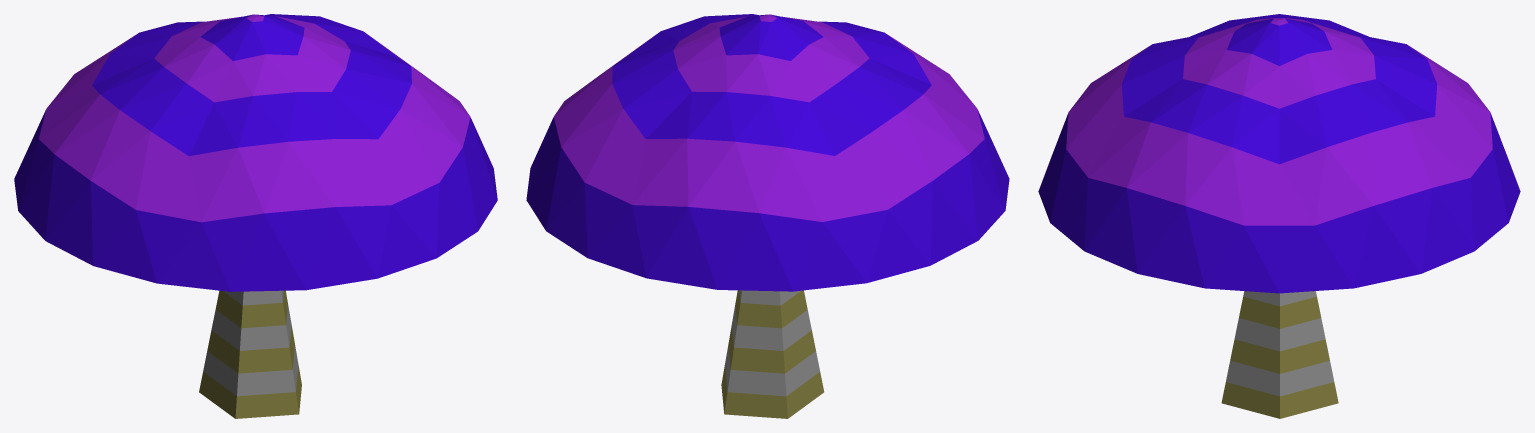
File: cogumelo13.FBX
The picture shows the model from 3 angles, left to right: view 1: azimuth 30°, elevation 25°; view 2: azimuth 150°, elevation 25°; view 3: azimuth 270°, elevation 25°; orthographic projection.
Parts seen in each view (by area): view 1: cogumelo13cabeca, cogumelo13; view 2: cogumelo13cabeca, cogumelo13; view 3: cogumelo13cabeca, cogumelo13.
Part boxes in pixels (box(x1,y1,x2,y2)): cogumelo13cabeca: box(14, 14, 497, 291); cogumelo13: box(199, 290, 301, 418); cogumelo13cabeca: box(526, 14, 1009, 291); cogumelo13: box(721, 290, 824, 418); cogumelo13cabeca: box(1038, 14, 1520, 293); cogumelo13: box(1221, 291, 1338, 418).
Bounding box in the file's own units: 77.81 × 67 × 77.81.
